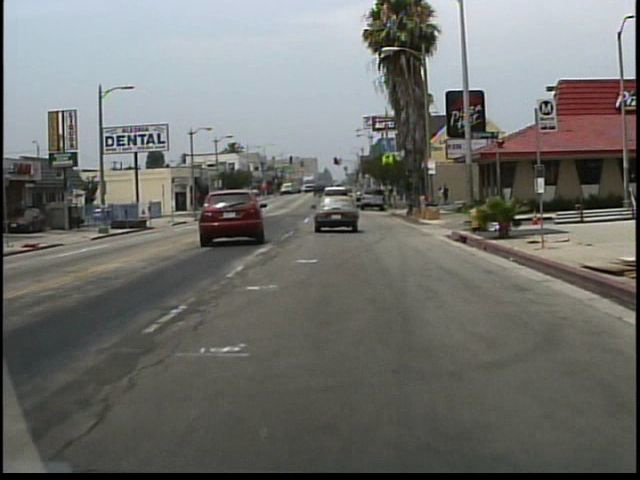person: (442, 183, 451, 206), (437, 184, 445, 207)
